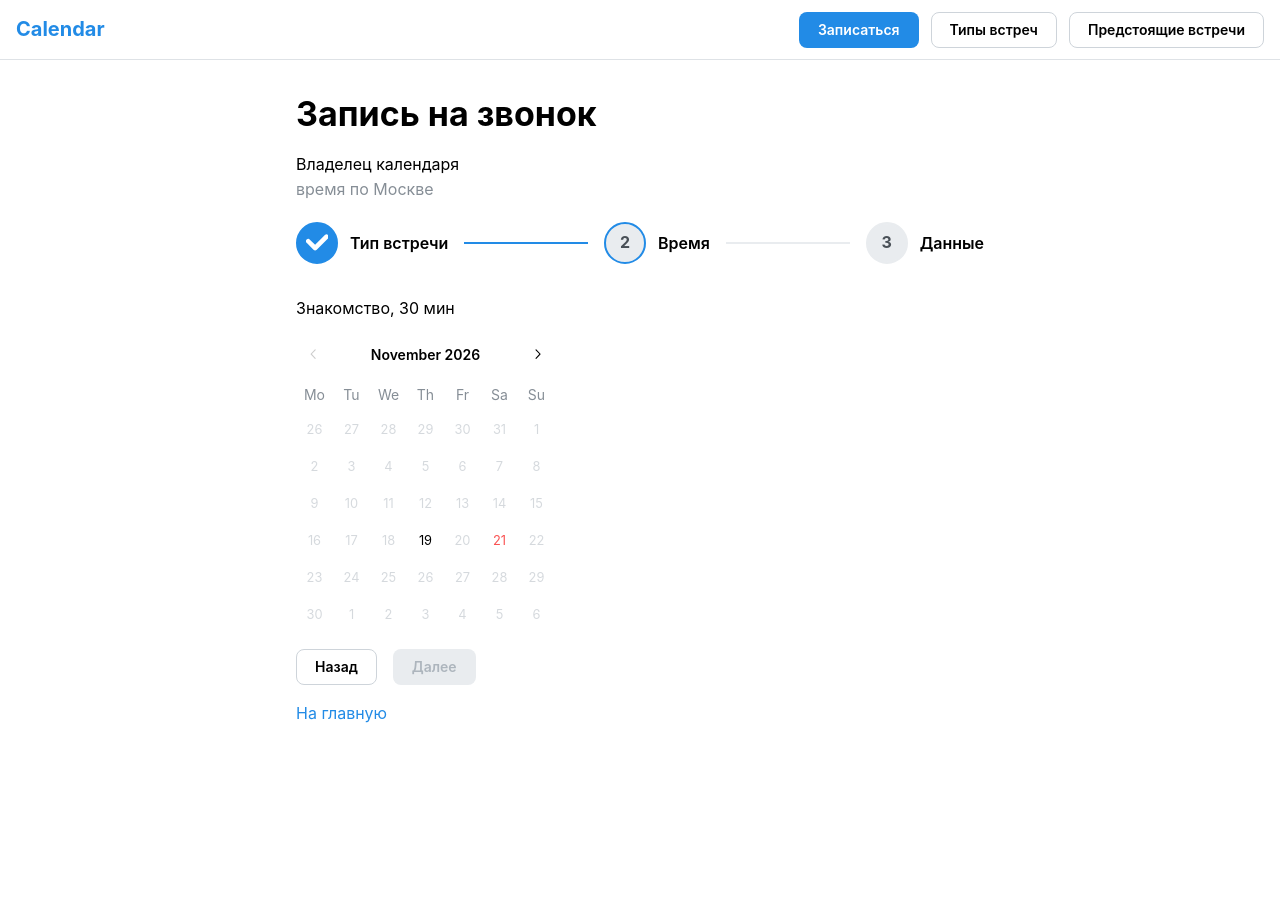
Test: шаг «Время» › «Далее» активна только после выбора слота
Click the button "19": coordinates (426, 541) [408,523,444,559]
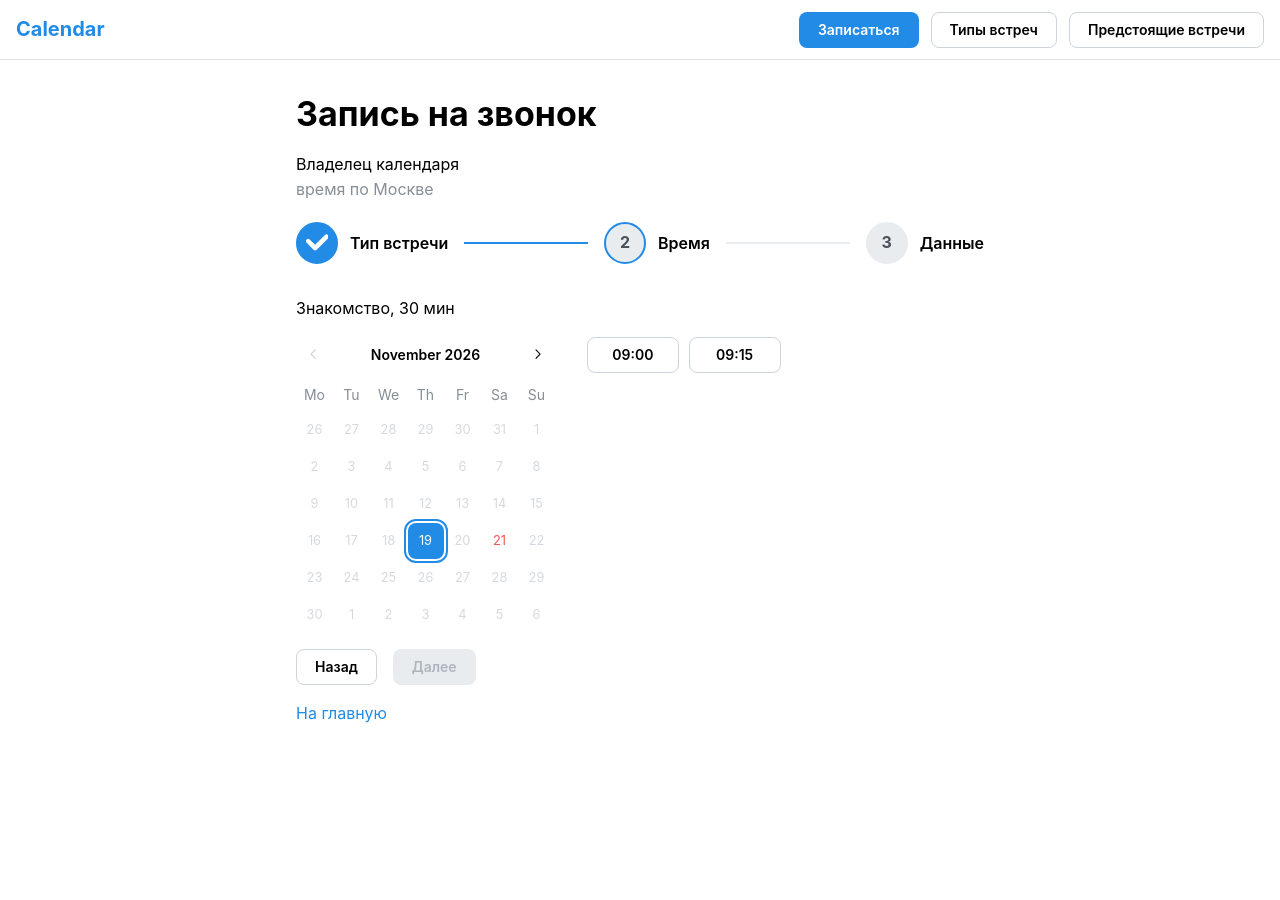
Check: the button "Далее" is disabled, box [393,649,476,685]
Click the button "09:15": coordinates (735, 355) [689,337,781,373]
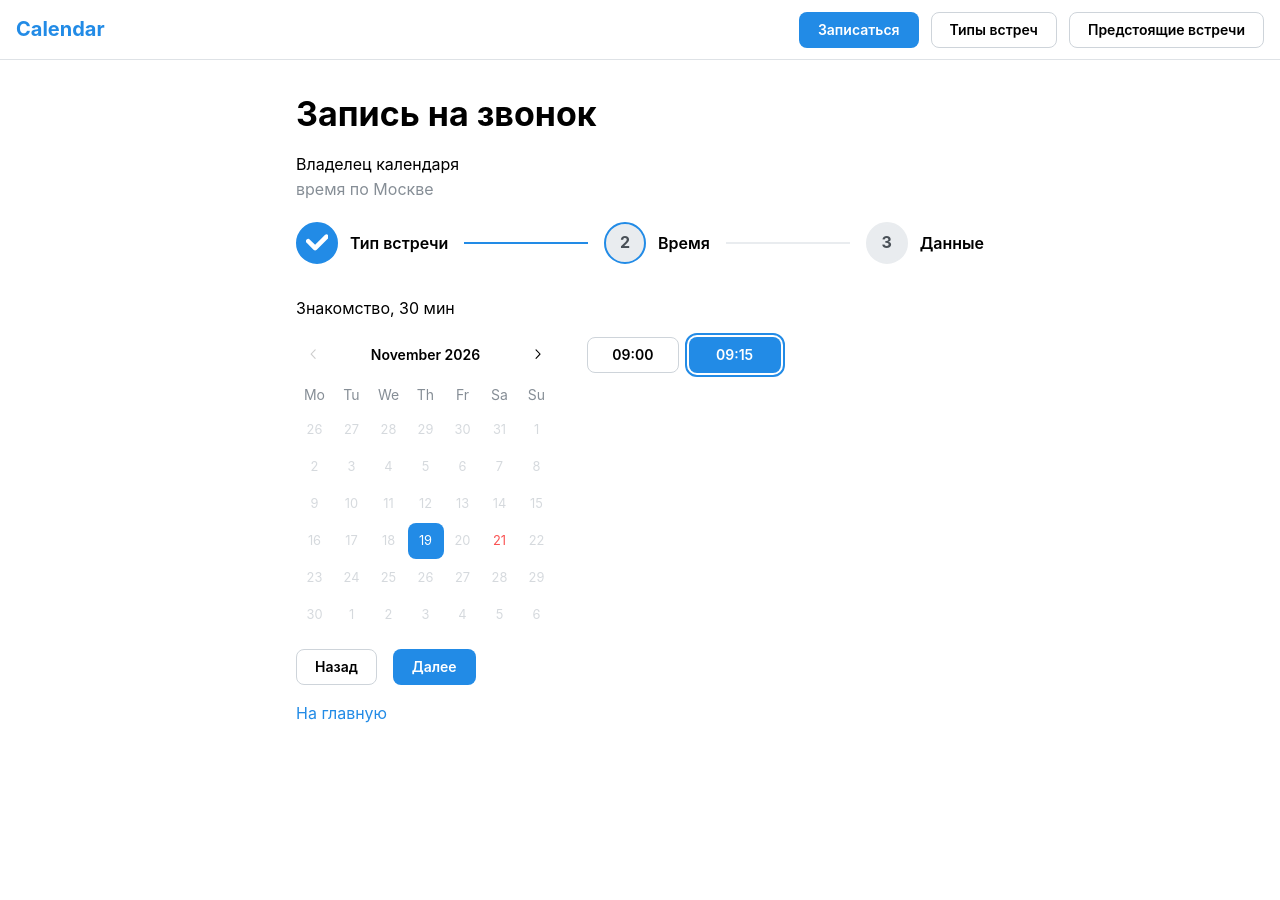
Check: the button "Далее" is enabled, box [393,649,476,685]
